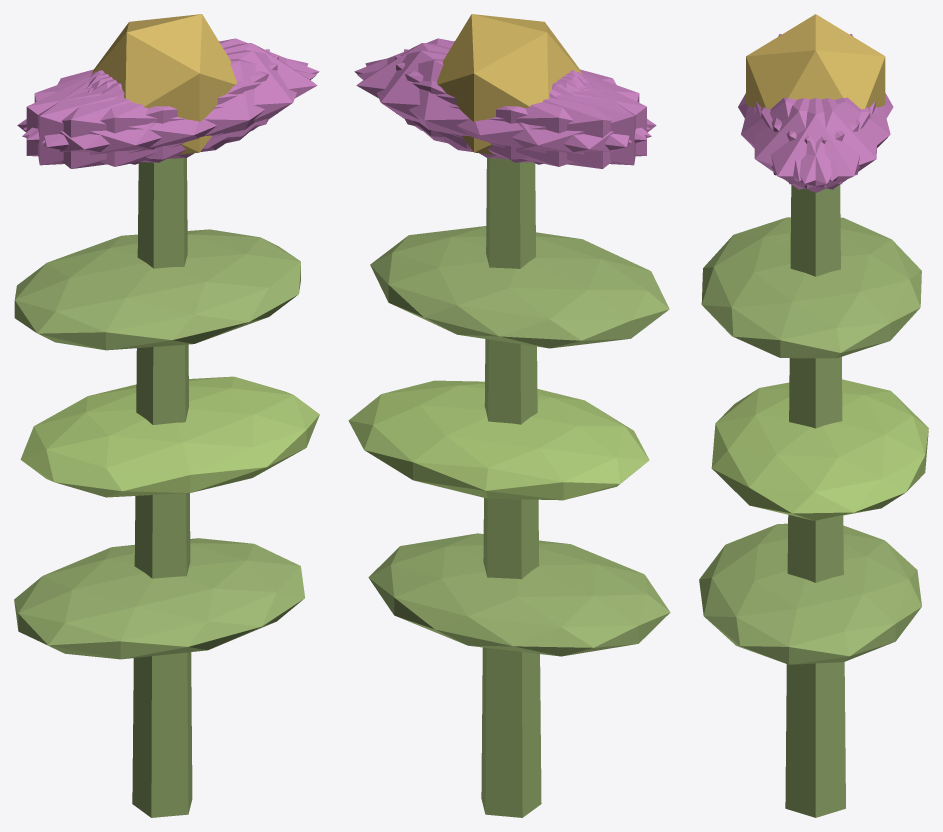
The model's file is wikstroemia-indica.glb.
3 views of the same model, side by side, from view 1: azimuth 30°, elevation 25°; view 2: azimuth 150°, elevation 25°; view 3: azimuth 270°, elevation 25° (orthographic).
Visible parts, largest first — view 1: leaf2, leaf0, leaf1, stem, center, petal1, petal6, petal2, petal5, petal7, petal0, petal4 (+2 smaller); view 2: leaf2, leaf1, leaf0, stem, center, petal8, petal3, petal7, petal4, petal2, petal0, petal5 (+2 smaller); view 3: leaf2, leaf1, leaf0, stem, center, petal0, petal5, petal4, petal1, petal8.
Boxes of the visible parts, x1,y1,x2,y2 form: leaf2: (14,229,300,350); leaf0: (14,538,304,659); leaf1: (20,376,319,497); stem: (132,158,192,817); center: (92,14,236,154); petal1: (22,58,316,166); petal6: (17,72,230,168); petal2: (38,49,269,165); petal5: (42,50,308,159); petal7: (26,55,278,162); petal0: (91,43,317,149); petal4: (23,38,319,140); leaf2: (370,226,669,348); leaf1: (348,380,649,500); leaf0: (368,533,670,656); stem: (481,158,541,817); center: (437,14,581,154); petal8: (357,58,651,166); petal3: (443,72,656,168); petal7: (404,49,635,165); petal4: (365,50,631,159); petal2: (395,55,646,162); petal0: (356,43,582,149); petal5: (354,38,650,140); leaf2: (701,217,921,358); leaf1: (711,379,928,520); leaf0: (699,523,921,664); stem: (785,184,845,817); center: (746,14,885,109); petal0: (756,98,875,192); petal5: (754,98,870,189); petal4: (761,98,877,189); petal1: (741,97,859,181); petal8: (771,97,890,181).
Size of the model in its own units: 0.1469 by 0.3743 by 0.101.
